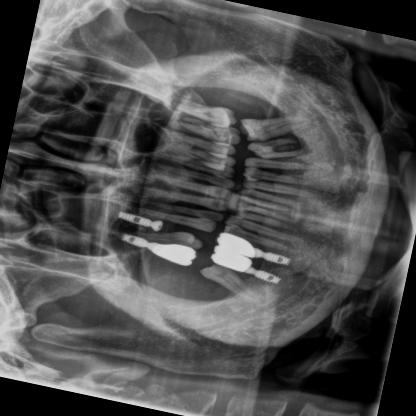Bicon: (114, 209, 152, 228), (120, 230, 150, 249), (254, 267, 284, 284), (263, 249, 290, 266)
